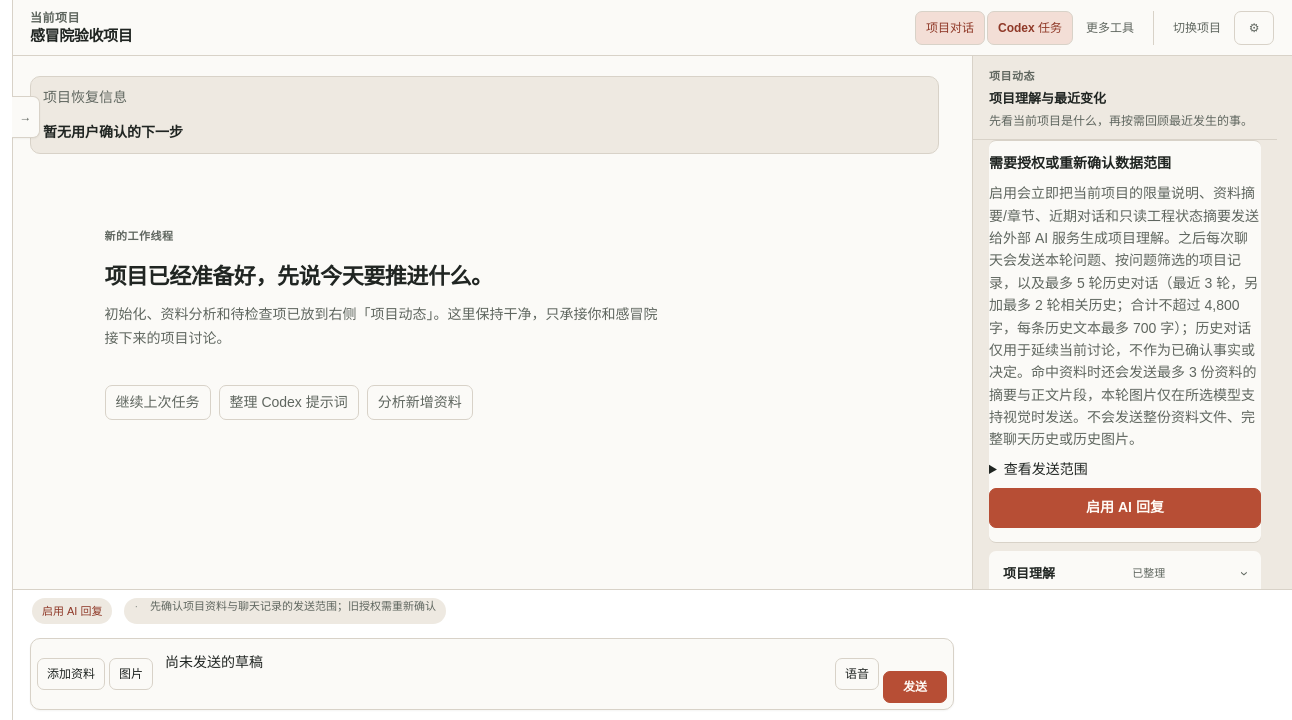
Test case: project workspace persistence flow › hides the consent action after version 3 authorization is persisted
Click the button "启用 AI 回复" below "查看发送范围": (1125, 508) [989, 488, 1261, 528]
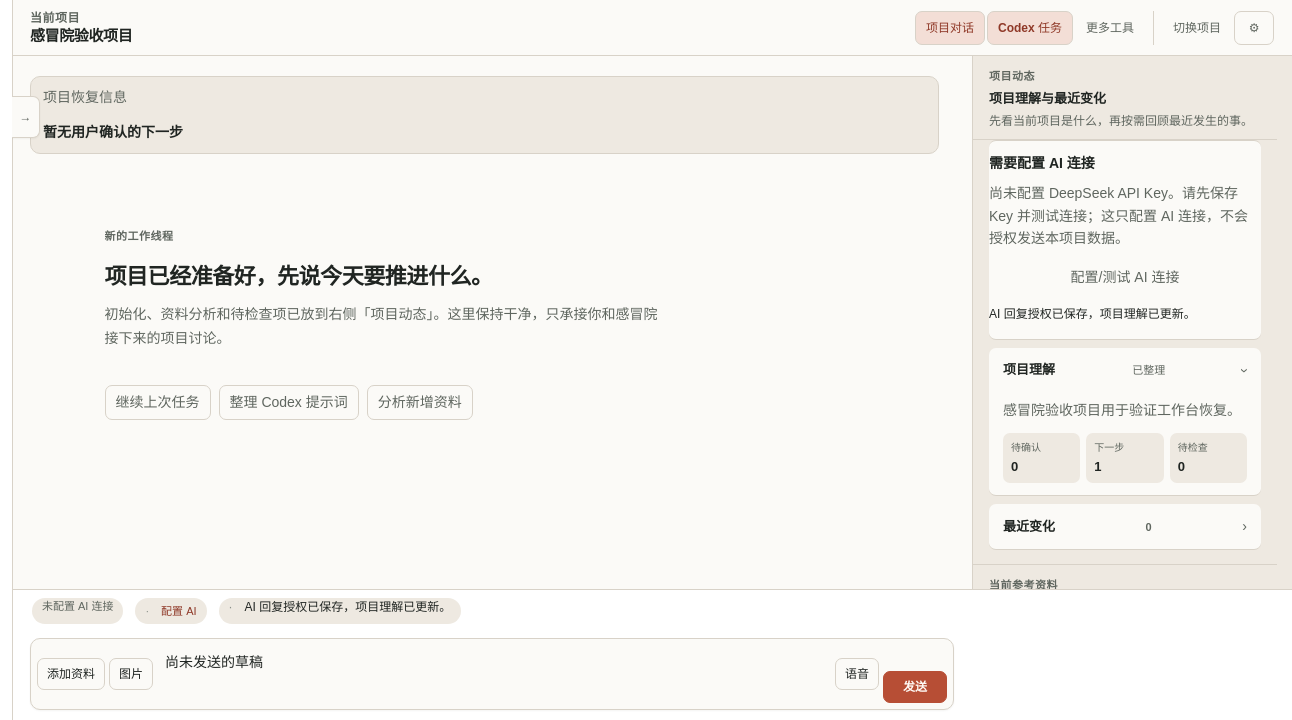
Expected: the button "启用 AI 回复" is gone
